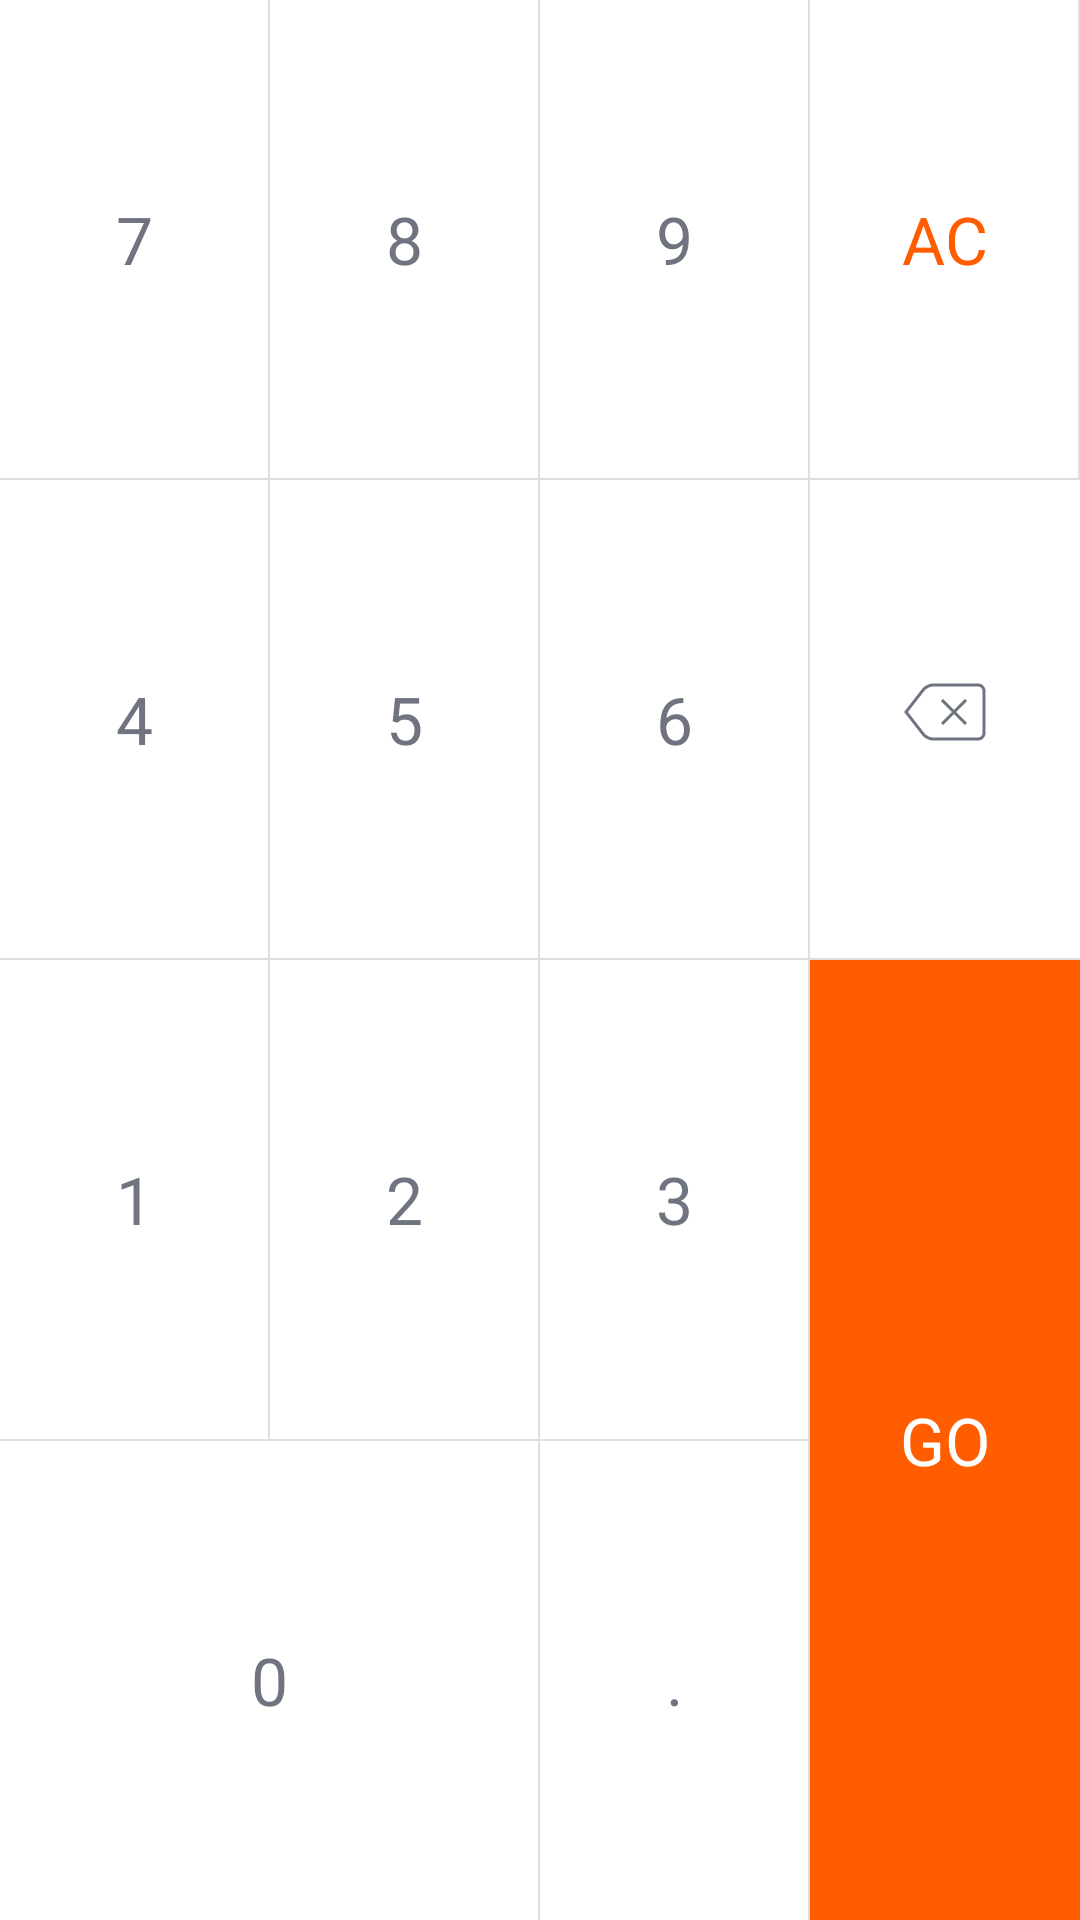

Point at icon controls on the screen. Image size 1080*1920, points as point (x, y).
backspace: point (945, 712)
